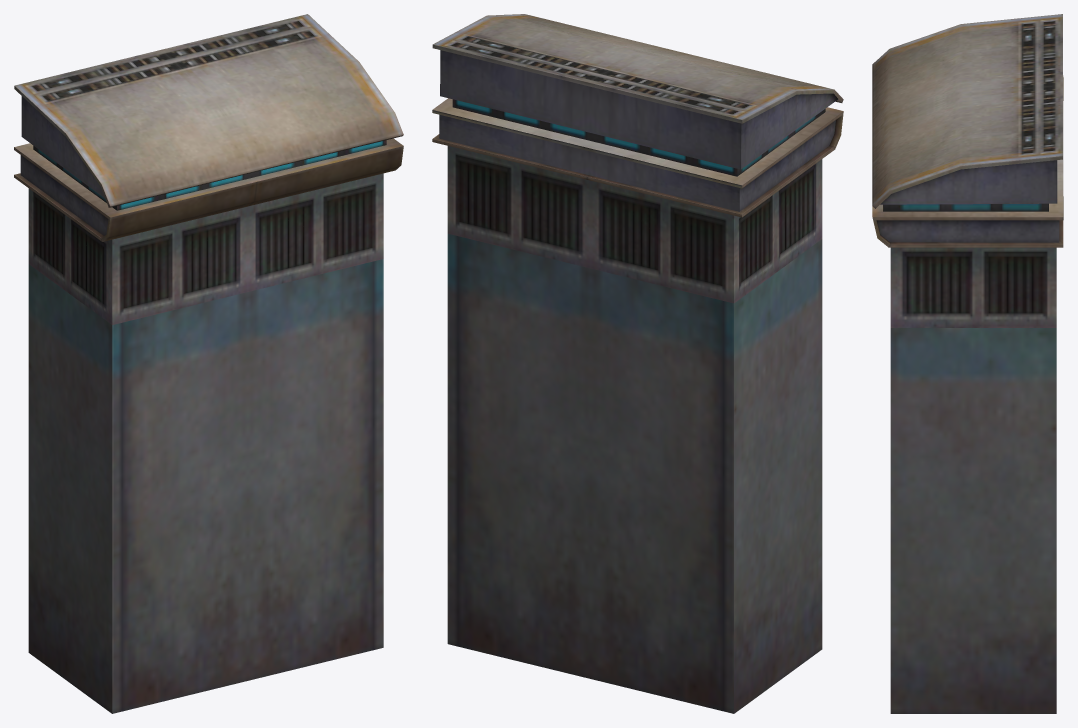
Rendered from zc_lekesigang_pinjieqiang02.FBX.
3 views of the same model, side by side, from view 1: azimuth 30°, elevation 25°; view 2: azimuth 150°, elevation 25°; view 3: azimuth 270°, elevation 25° (orthographic). The views are drawn at different scales.
Parts seen in each view (by area): view 1: zc_lekesigang_pinjieqiang02; view 2: zc_lekesigang_pinjieqiang02; view 3: zc_lekesigang_pinjieqiang02.
Boxes of the visible parts, x1=… form: zc_lekesigang_pinjieqiang02: x1=14, y1=14, x2=403, y2=713; zc_lekesigang_pinjieqiang02: x1=432, y1=14, x2=843, y2=713; zc_lekesigang_pinjieqiang02: x1=872, y1=14, x2=1063, y2=713.
Size of the model in its own units: 327 by 604 by 186.
